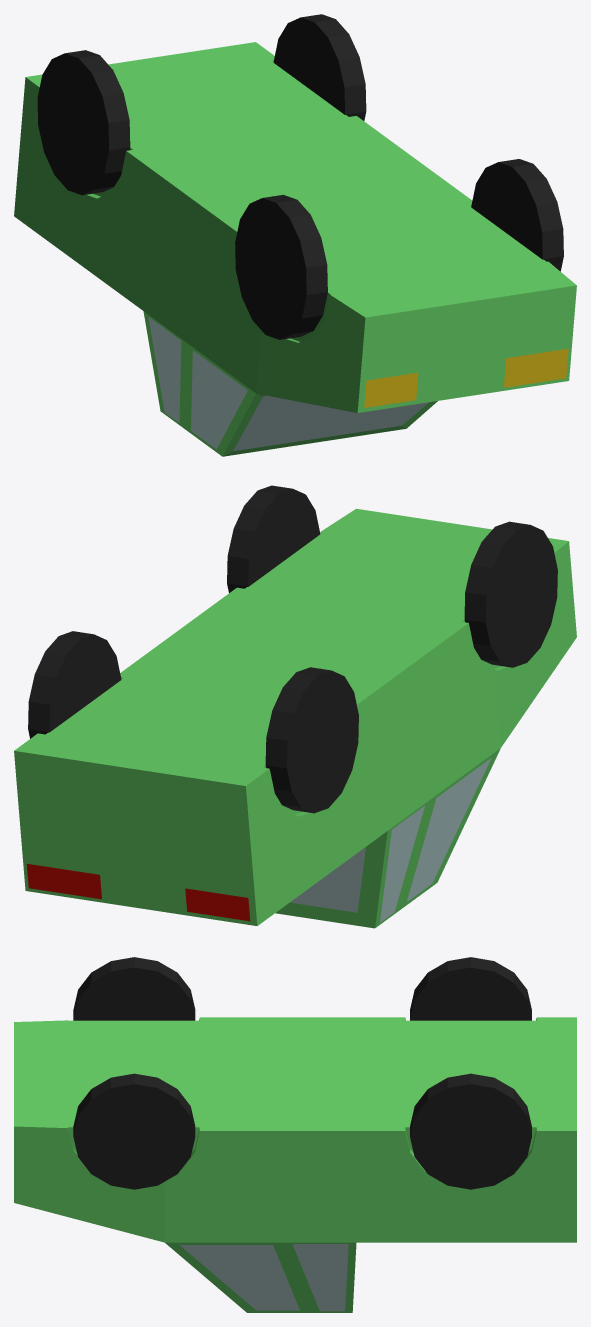
The model's file is pickup.fbx.
3 views of the same model, one above another, from view 1: azimuth 30°, elevation 25°; view 2: azimuth 150°, elevation 25°; view 3: azimuth 270°, elevation 25° (orthographic). The views are drawn at different scales.
Visible parts, largest first — view 1: Cylinder.001; view 2: Cylinder.001; view 3: Cylinder.001.
Boxes of the visible parts, x1=… form: Cylinder.001: x1=14, y1=14, x2=576, y2=456; Cylinder.001: x1=14, y1=485, x2=576, y2=928; Cylinder.001: x1=14, y1=957, x2=576, y2=1312.
Size of the model in its own units: 348 by 399 by 743.
